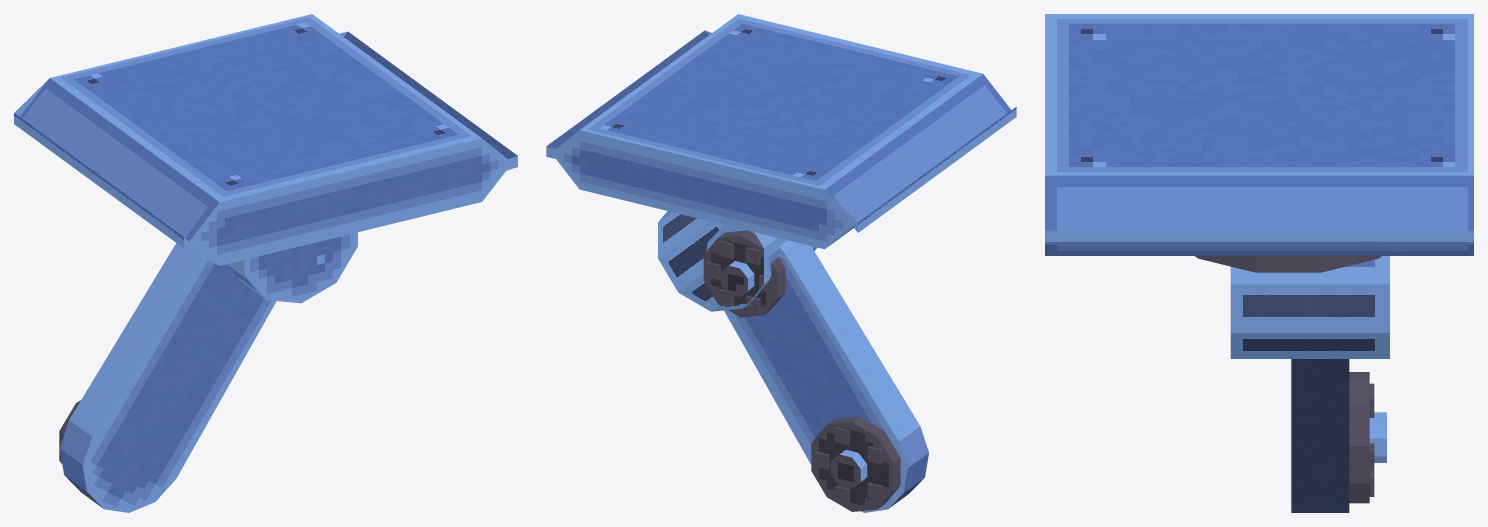
Rendered from riser.glb.
3 views of the same model, side by side, from view 1: azimuth 30°, elevation 25°; view 2: azimuth 150°, elevation 25°; view 3: azimuth 270°, elevation 25° (orthographic). The views are drawn at different scales.
Visible parts, largest first — view 1: riser_body, riser_arm, riser_head; view 2: riser_body, riser_arm, riser_head; view 3: riser_body, riser_head, riser_arm.
Part boxes in pixels (<box>): riser_body: <box>14,14,517,265</box>; riser_arm: <box>59,243,276,512</box>; riser_head: <box>227,232,357,303</box>; riser_body: <box>546,14,1016,249</box>; riser_arm: <box>703,225,928,512</box>; riser_head: <box>658,211,816,311</box>; riser_body: <box>1045,14,1473,272</box>; riser_head: <box>1230,256,1389,358</box>; riser_arm: <box>1291,359,1386,512</box>.
Bounding box in the file's own units: 0.8494 × 0.9224 × 0.74.
Materials: 1 (1 with a texture image).
